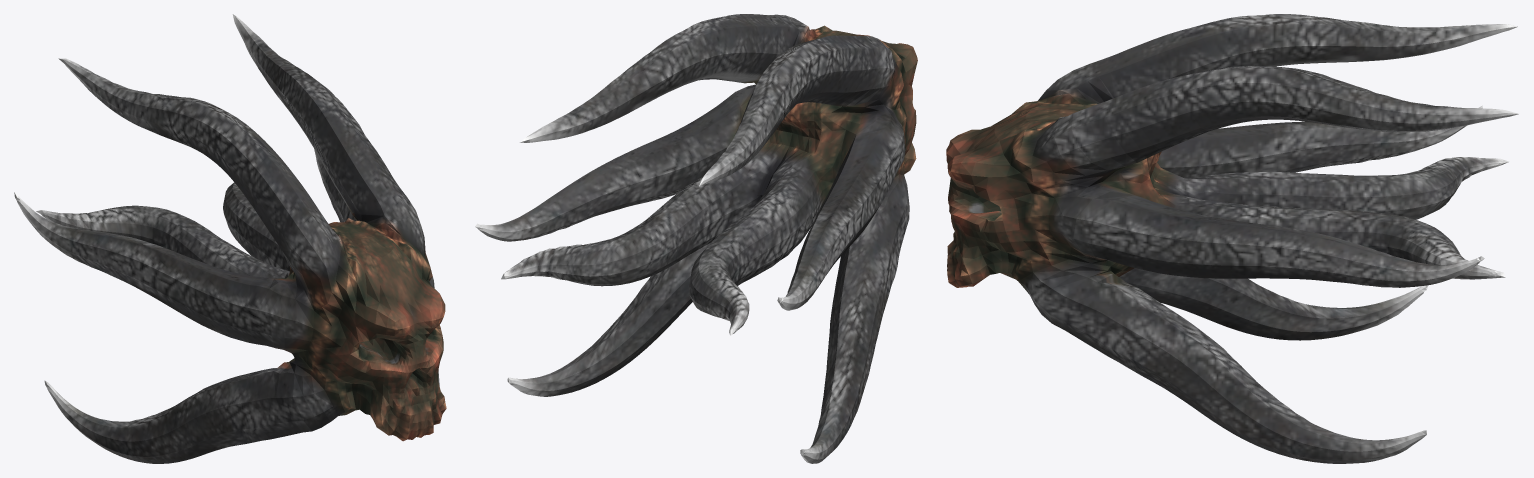
Rendered from mhw_culturalibre_skull_helmet.glb.
3 views of the same model, side by side, from view 1: azimuth 30°, elevation 25°; view 2: azimuth 150°, elevation 25°; view 3: azimuth 270°, elevation 25° (orthographic). The views are drawn at different scales.
Parts seen in each view (by area): view 1: mhw_culturalibre_skull_helmet; view 2: mhw_culturalibre_skull_helmet; view 3: mhw_culturalibre_skull_helmet.
Part boxes in pixels (left/top/right/bottom): mhw_culturalibre_skull_helmet: left=14, top=14, right=446, bottom=463; mhw_culturalibre_skull_helmet: left=475, top=14, right=917, bottom=463; mhw_culturalibre_skull_helmet: left=946, top=14, right=1518, bottom=463.
Size of the model in its own units: 0.4754 by 0.5268 by 0.7648.
1 material, 1 textured.
